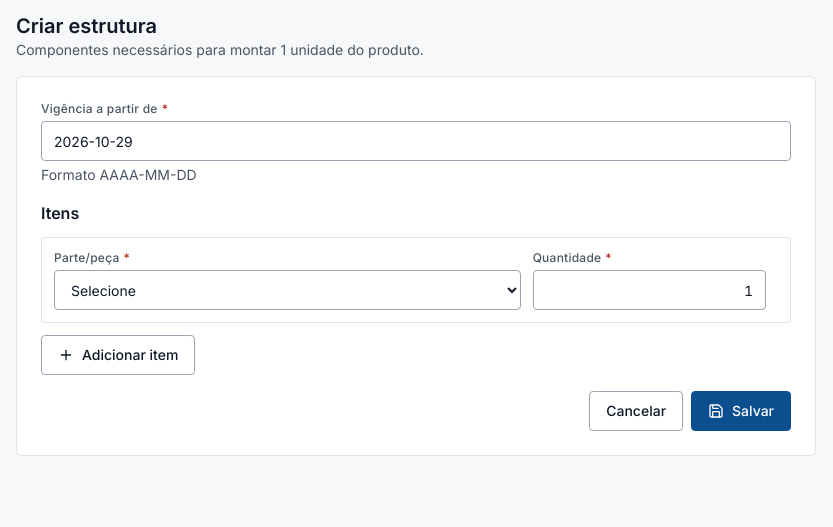
Test: NovaEstruturaProduto › erro 409 mostra alerta
Check: the heading "Criar estrutura" is shown, box [16, 14, 157, 38]
Replace the text in the field labelled "Vigência a partir de*" with "2026-09-01": (416, 141) [41, 121, 791, 161]
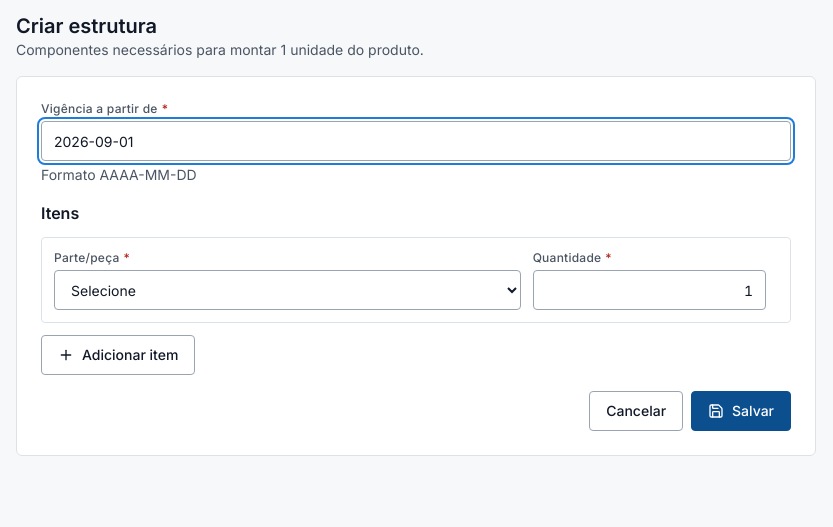
Select "RES-10K — Resistor" in the dropdown labelled "Parte/peça*": (287, 290) [54, 270, 521, 310]
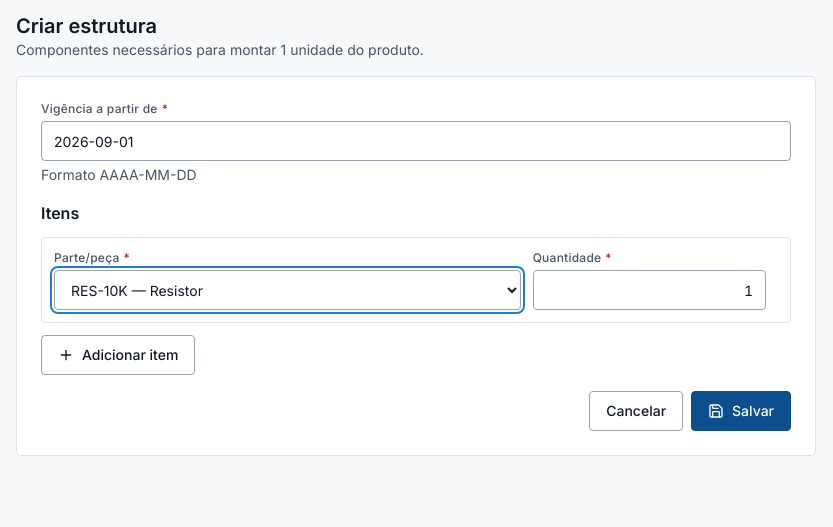
Click the button "Salvar": (741, 411) [691, 391, 791, 431]
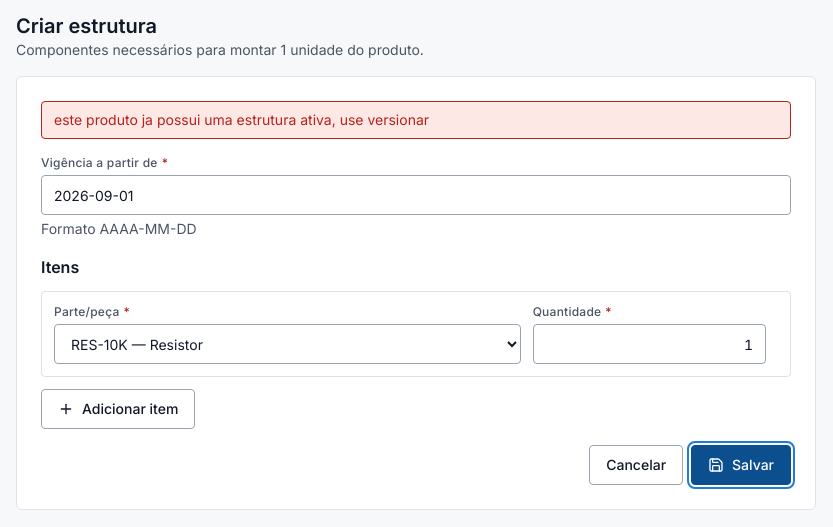
Check: the message shows "estrutura ativa", box [54, 111, 429, 128]
